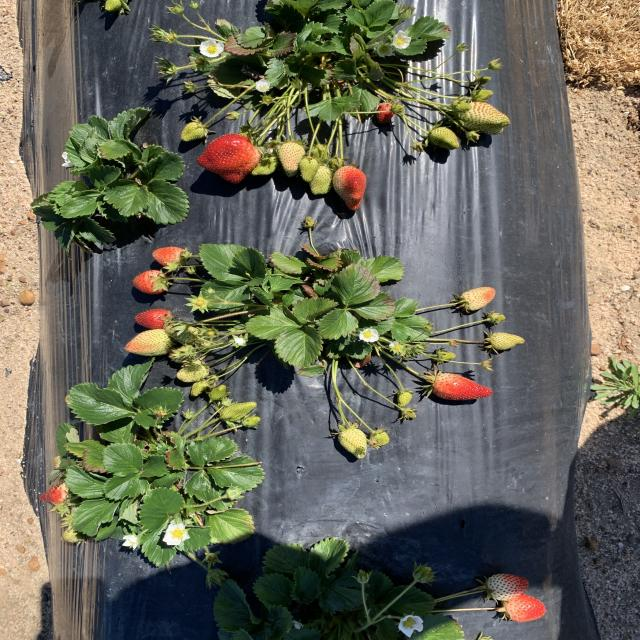unripe: (198, 133, 261, 184), (429, 372, 494, 404), (335, 165, 367, 210), (503, 595, 547, 625), (38, 482, 77, 508), (133, 308, 176, 328), (132, 270, 169, 293), (152, 248, 186, 268), (378, 103, 396, 123)
